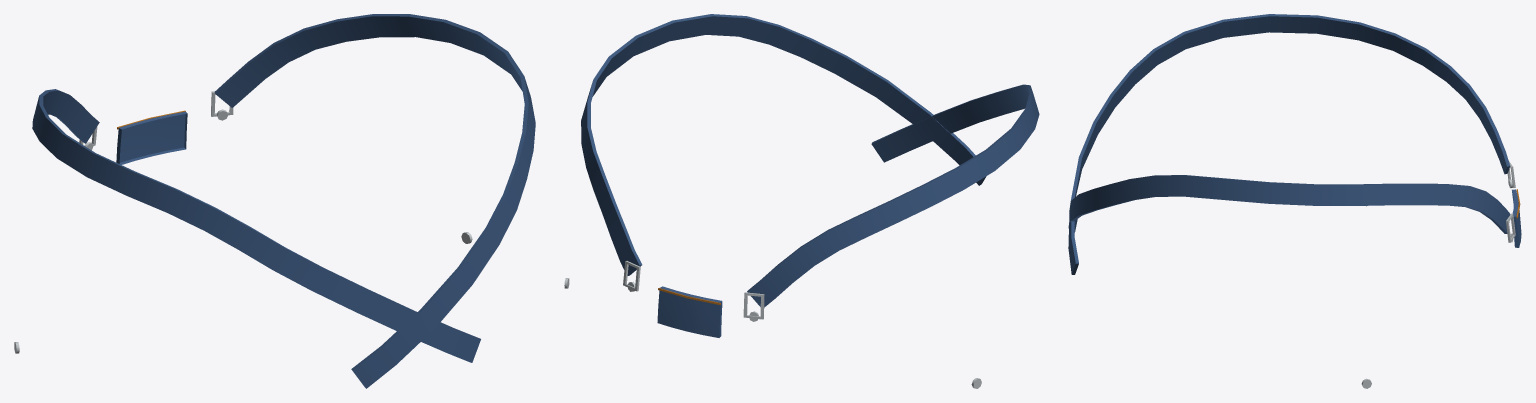
The model's file is cos_l_overalls.glb.
3 renders of one model, left to right at view 1: azimuth 30°, elevation 25°; view 2: azimuth 150°, elevation 25°; view 3: azimuth 270°, elevation 25°, orthographic. The views are drawn at different scales.
Visible parts, largest first — view 1: l_overalls, l_overalls_metal; view 2: l_overalls, l_overalls_metal; view 3: l_overalls, l_overalls_metal.
Part boxes in pixels (box(x1,y1,x2,y2)): l_overalls: box(32, 14, 535, 388); l_overalls_metal: box(14, 91, 472, 353); l_overalls: box(581, 14, 1039, 337); l_overalls_metal: box(564, 261, 981, 388); l_overalls: box(1068, 14, 1521, 274); l_overalls_metal: box(1361, 161, 1515, 388).
Size of the model in its own units: 1.02 by 0.5114 by 1.06.
